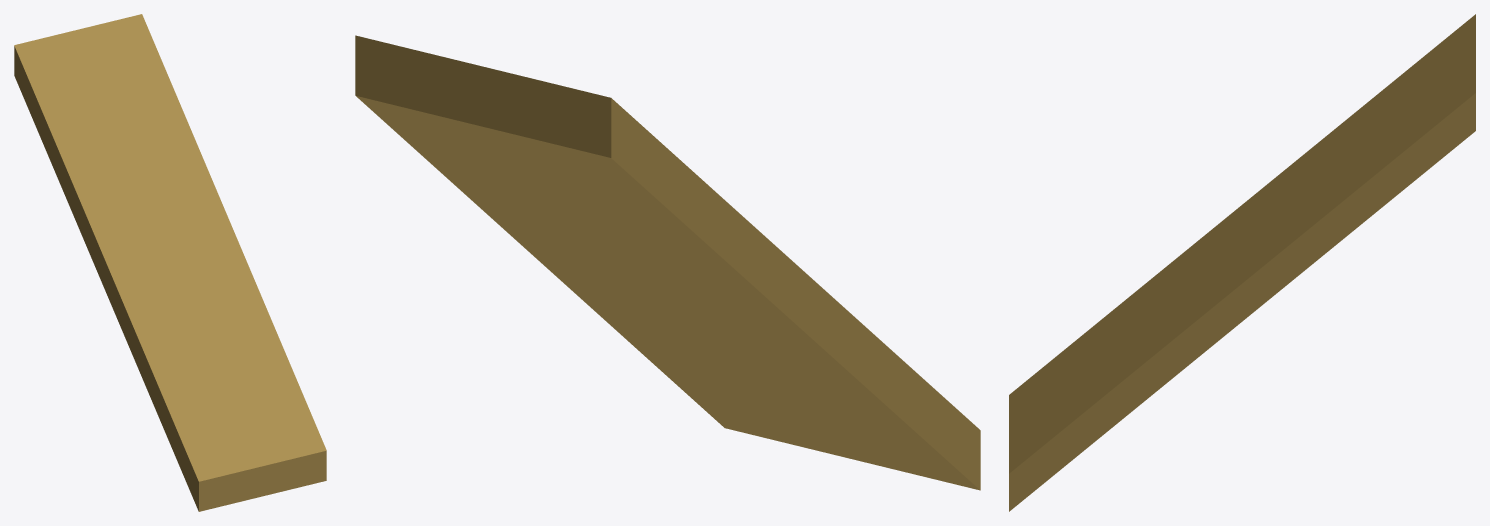
File: VergeSlope.fbx
3 renders of one model, left to right at view 1: azimuth 30°, elevation 25°; view 2: azimuth 150°, elevation 25°; view 3: azimuth 270°, elevation 25°, orthographic. The views are drawn at different scales.
Visible parts, largest first — view 1: Kit_VergeSlope; view 2: Kit_VergeSlope; view 3: Kit_VergeSlope.
Part boxes in pixels (bbox=[...]): Kit_VergeSlope: bbox=[14, 14, 326, 511]; Kit_VergeSlope: bbox=[355, 35, 980, 490]; Kit_VergeSlope: bbox=[1009, 14, 1475, 511].
Size of the model in its own units: 0.4 by 0.9904 by 1.
